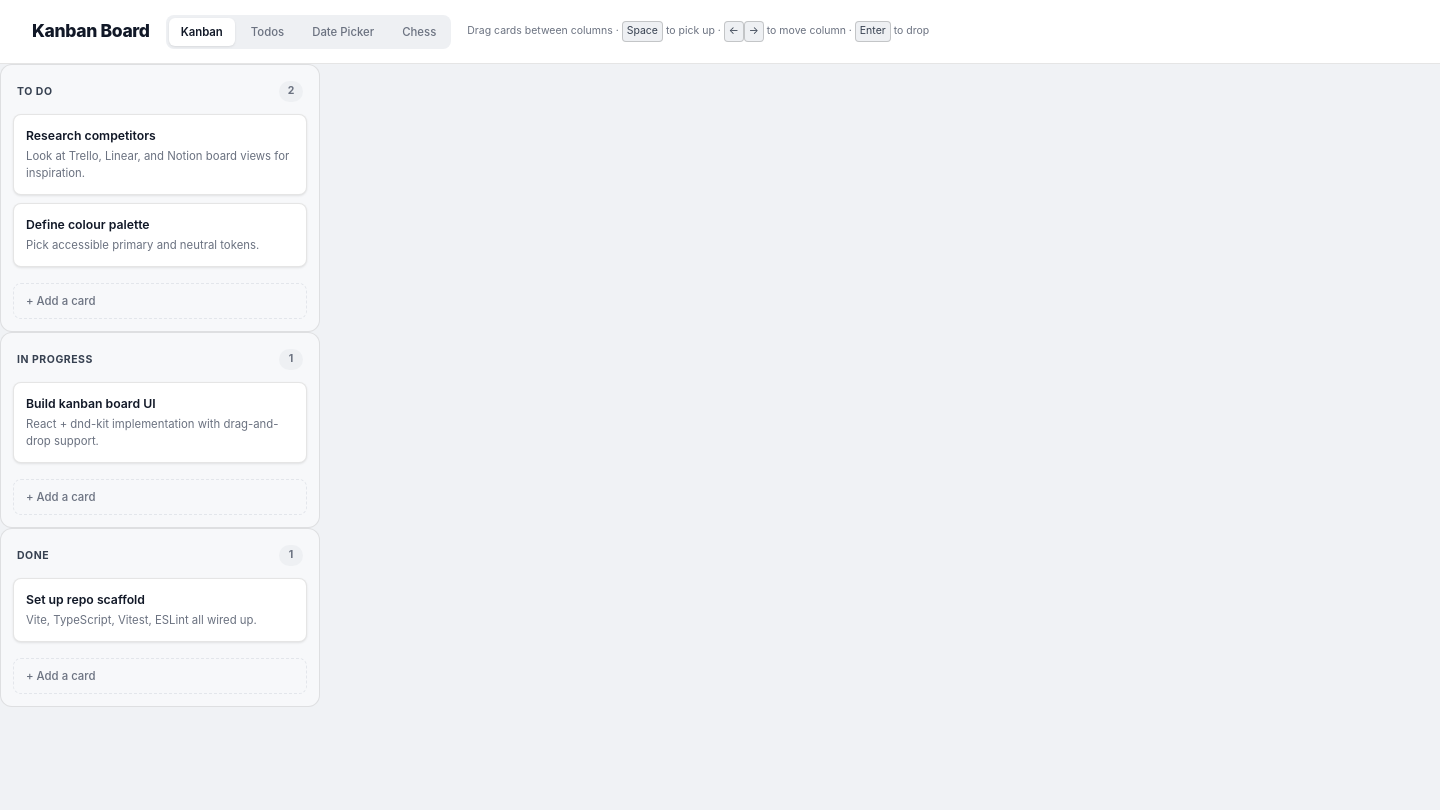
AC3 — inline add-card form › adds a card with an optional description
The width and height of the screenshot is (1440, 810).
Click the button with aria-label "add card to to do": click(61, 301) [13,283,307,319]
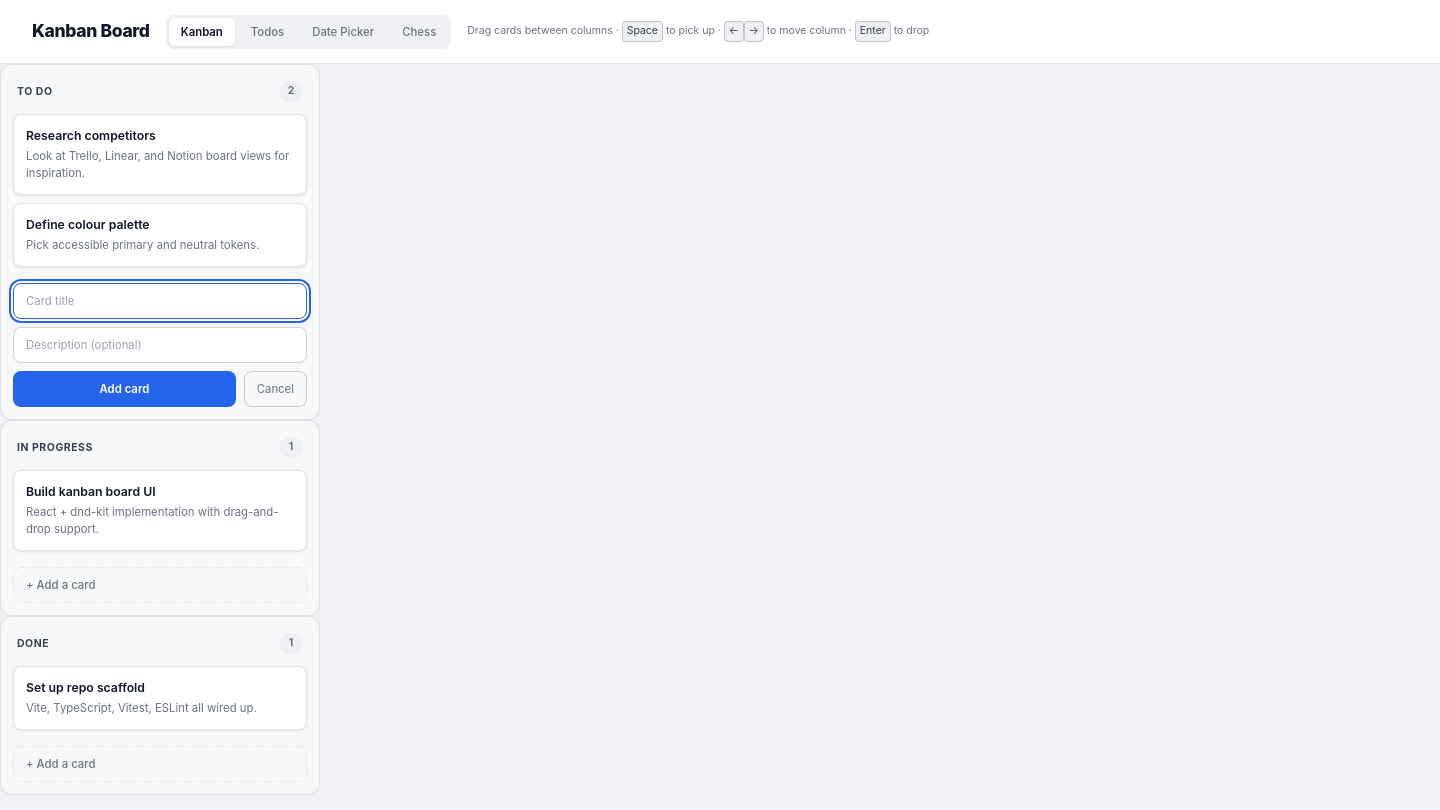
In the field labelled "Card title": (160, 301) [13,283,307,319], type "Card with desc"
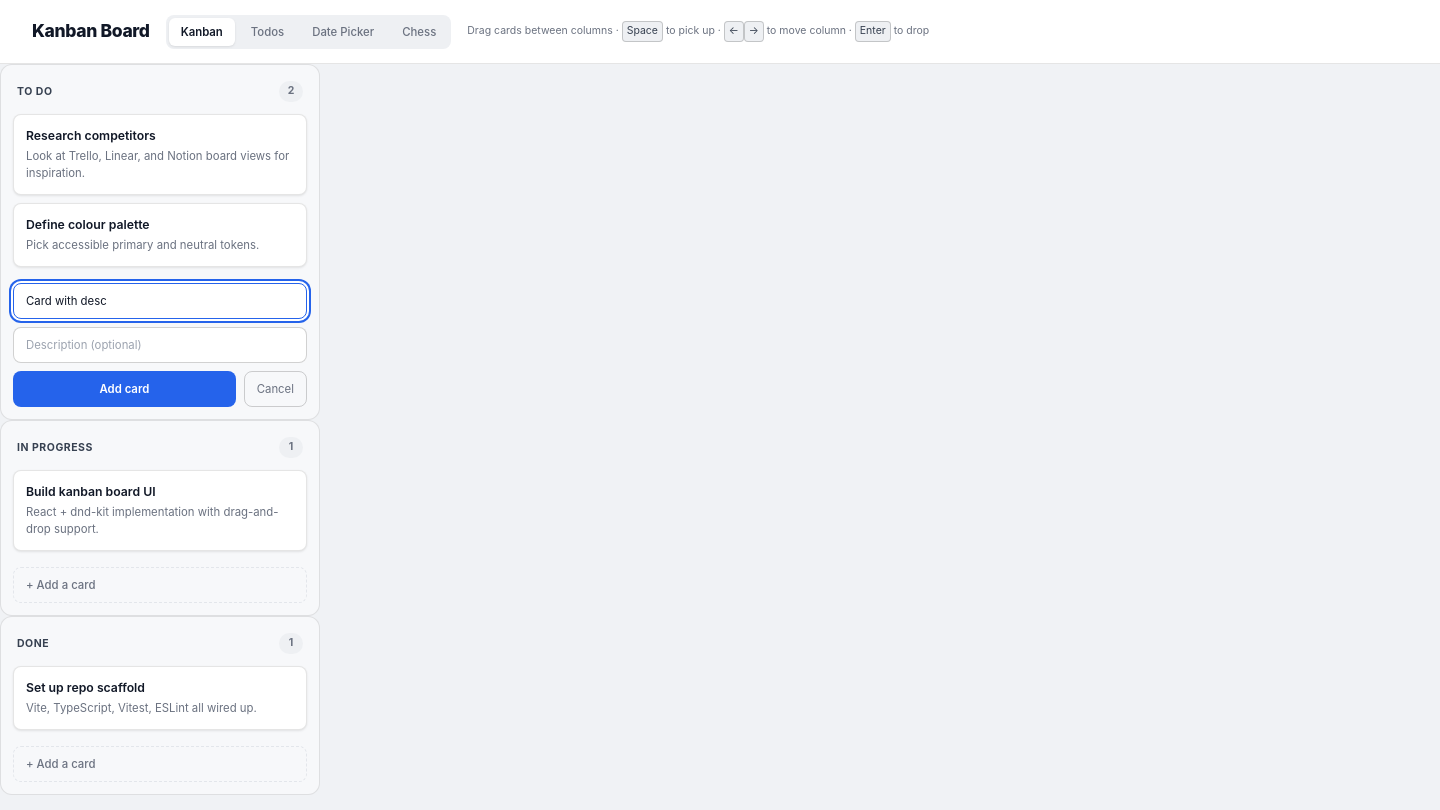
In the field named "card description": (160, 345) [13,327,307,363], type "A description"
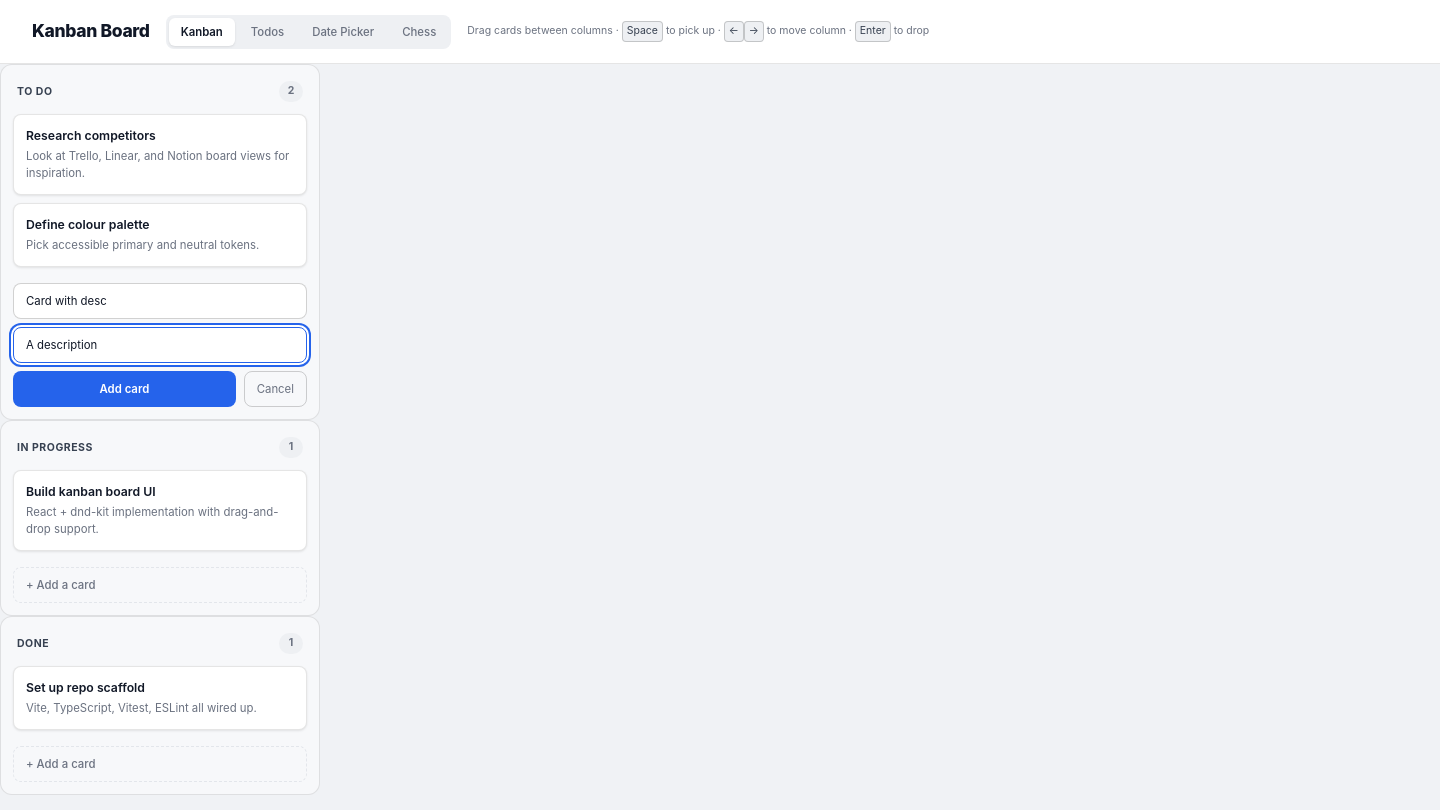
Click the button "Add card": click(124, 389) [13,371,236,407]
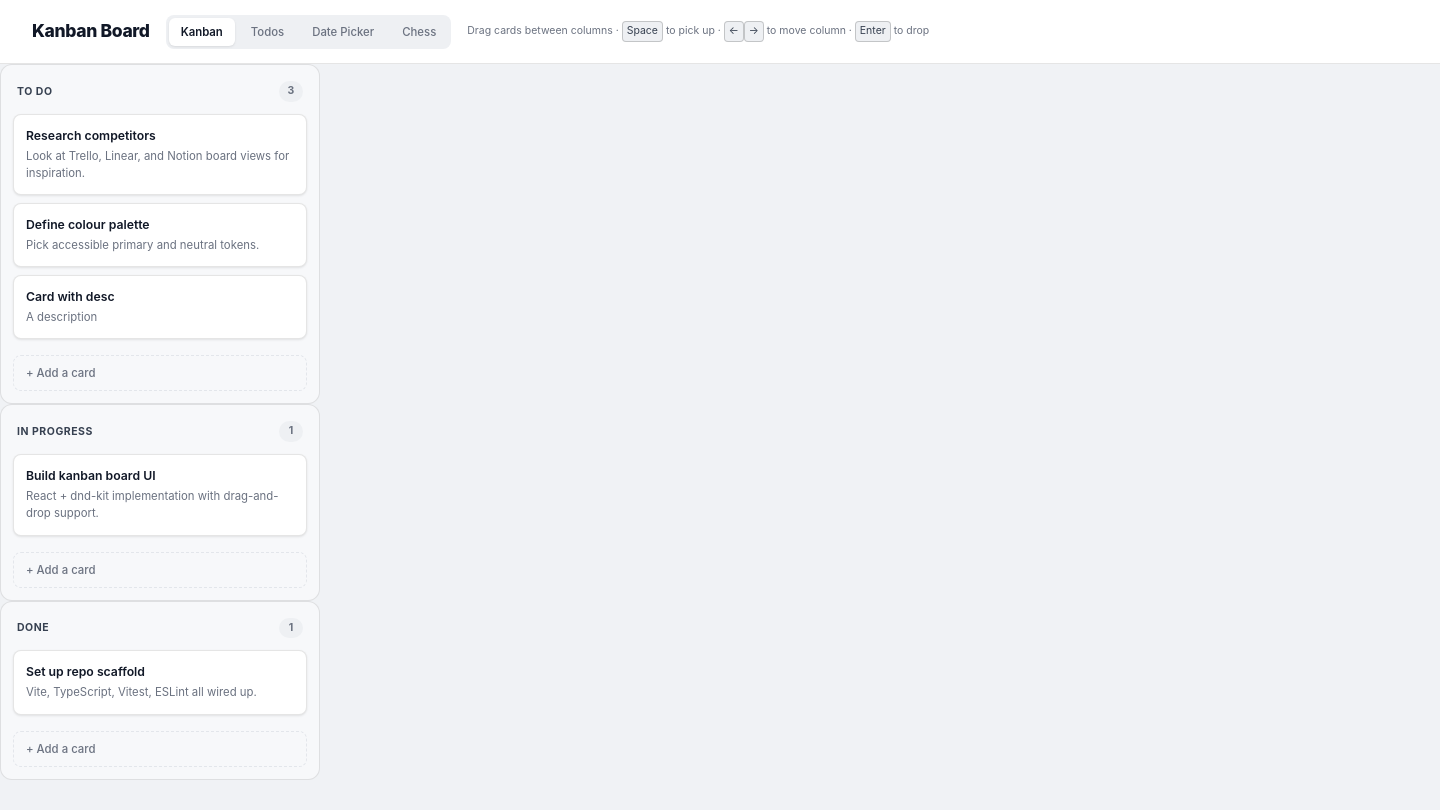
Expected: the text "Card with desc" is shown, [26,289,115,304]
Expected: the text "A description" is shown, [26,310,97,324]
